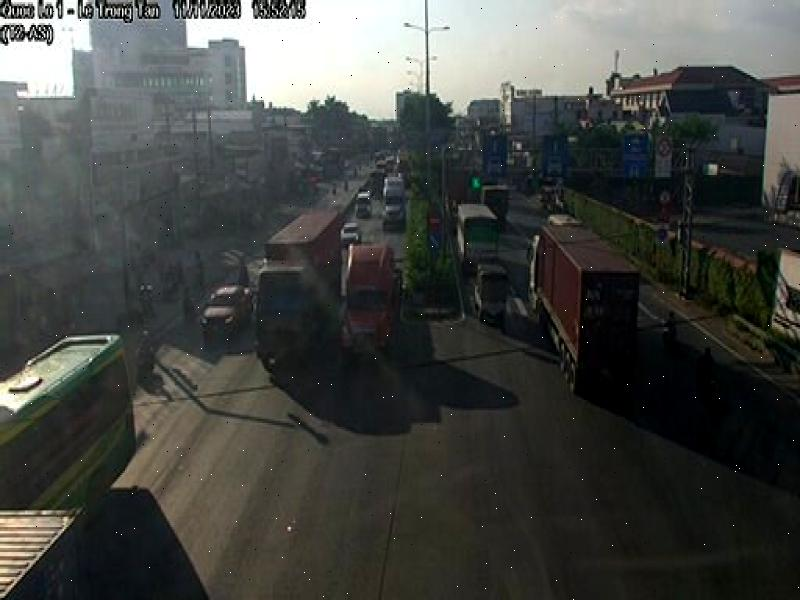bus: (0, 329, 141, 510)
truck: (528, 220, 640, 411), (256, 207, 342, 365), (342, 244, 404, 354)
